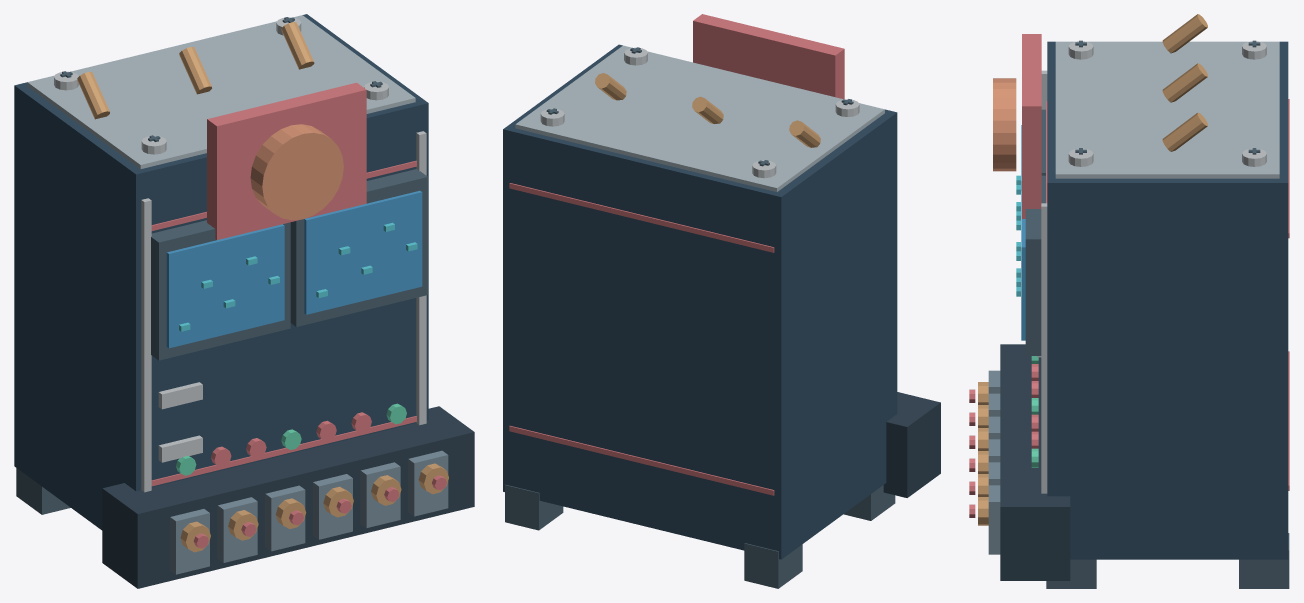
The model's file is 59_L77_CMPEmergencySafetyStation.glb.
3 renders of one model, left to right at view 1: azimuth 30°, elevation 25°; view 2: azimuth 150°, elevation 25°; view 3: azimuth 270°, elevation 25°, orthographic. The views are drawn at different scales.
Visible parts, largest first — view 1: CMPEmergencySafetyStation_Node_0000, CMPEmergencySafetyStation_Node_0007, CMPEmergencySafetyStation_Node_0049, CMPEmergencySafetyStation_Node_0076, CMPEmergencySafetyStation_Node_0032, CMPEmergencySafetyStation_Node_0025, CMPEmergencySafetyStation_Node_0077, CMPEmergencySafetyStation_Node_0024, CMPEmergencySafetyStation_Node_0031, CMPEmergencySafetyStation_Node_0005, CMPEmergencySafetyStation_Node_0006, CMPEmergencySafetyStation_Node_0053 (+13 smaller); view 2: CMPEmergencySafetyStation_Node_0000, CMPEmergencySafetyStation_Node_0007, CMPEmergencySafetyStation_Node_0076, CMPEmergencySafetyStation_Node_0049, CMPEmergencySafetyStation_Node_0045, CMPEmergencySafetyStation_Node_0047, CMPEmergencySafetyStation_Node_0020, CMPEmergencySafetyStation_Node_0022, CMPEmergencySafetyStation_Node_0046; view 3: CMPEmergencySafetyStation_Node_0000, CMPEmergencySafetyStation_Node_0007, CMPEmergencySafetyStation_Node_0049, CMPEmergencySafetyStation_Node_0076, CMPEmergencySafetyStation_Node_0031, CMPEmergencySafetyStation_Node_0077, CMPEmergencySafetyStation_Node_0006, CMPEmergencySafetyStation_Node_0047, CMPEmergencySafetyStation_Node_0048, CMPEmergencySafetyStation_Node_0065, CMPEmergencySafetyStation_Node_0075, CMPEmergencySafetyStation_Node_0073 (+2 smaller).
Boxes of the visible parts, <box> form: CMPEmergencySafetyStation_Node_0000: <box>14,14,428,530</box>; CMPEmergencySafetyStation_Node_0007: <box>27,15,415,168</box>; CMPEmergencySafetyStation_Node_0049: <box>102,406,474,588</box>; CMPEmergencySafetyStation_Node_0076: <box>207,82,366,239</box>; CMPEmergencySafetyStation_Node_0032: <box>304,190,422,314</box>; CMPEmergencySafetyStation_Node_0025: <box>166,224,284,348</box>; CMPEmergencySafetyStation_Node_0077: <box>250,124,343,220</box>; CMPEmergencySafetyStation_Node_0024: <box>151,220,290,360</box>; CMPEmergencySafetyStation_Node_0031: <box>290,169,427,326</box>; CMPEmergencySafetyStation_Node_0005: <box>141,198,151,492</box>; CMPEmergencySafetyStation_Node_0006: <box>416,131,426,425</box>; CMPEmergencySafetyStation_Node_0053: <box>217,497,257,562</box>; CMPEmergencySafetyStation_Node_0000: <box>503,44,897,559</box>; CMPEmergencySafetyStation_Node_0007: <box>515,45,884,191</box>; CMPEmergencySafetyStation_Node_0076: <box>693,14,844,99</box>; CMPEmergencySafetyStation_Node_0049: <box>883,392,940,497</box>; CMPEmergencySafetyStation_Node_0045: <box>744,543,802,588</box>; CMPEmergencySafetyStation_Node_0047: <box>505,484,563,530</box>; CMPEmergencySafetyStation_Node_0020: <box>509,425,774,495</box>; CMPEmergencySafetyStation_Node_0022: <box>509,183,774,252</box>; CMPEmergencySafetyStation_Node_0046: <box>844,485,895,520</box>; CMPEmergencySafetyStation_Node_0000: <box>1047,41,1288,559</box>; CMPEmergencySafetyStation_Node_0007: <box>1055,41,1279,178</box>; CMPEmergencySafetyStation_Node_0049: <box>1000,344,1070,580</box>; CMPEmergencySafetyStation_Node_0076: <box>1022,34,1041,218</box>; CMPEmergencySafetyStation_Node_0031: <box>1025,175,1045,355</box>; CMPEmergencySafetyStation_Node_0077: <box>993,78,1016,171</box>; CMPEmergencySafetyStation_Node_0006: <box>1041,203,1047,493</box>; CMPEmergencySafetyStation_Node_0047: <box>1239,533,1289,588</box>; CMPEmergencySafetyStation_Node_0048: <box>1046,559,1096,588</box>; CMPEmergencySafetyStation_Node_0065: <box>988,485,1000,554</box>; CMPEmergencySafetyStation_Node_0075: <box>1162,112,1207,151</box>; CMPEmergencySafetyStation_Node_0073: <box>1162,14,1207,53</box>.
Size of the model in its own units: 0.99 by 1.27 by 0.8248.
